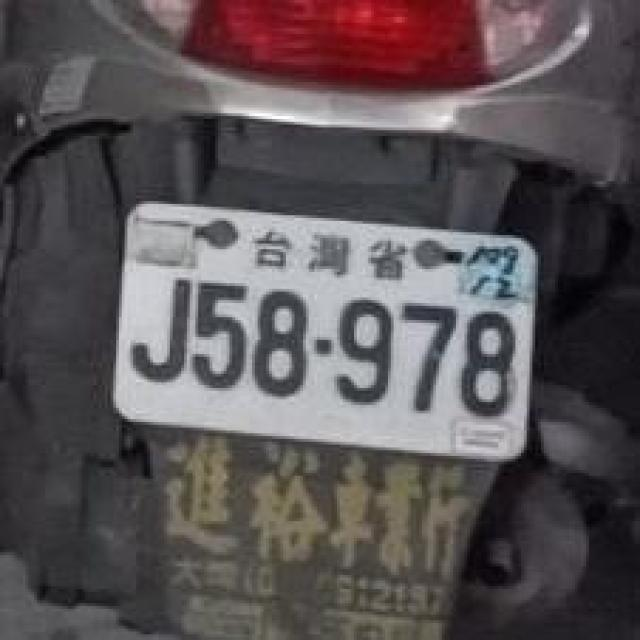W: (91, 178, 555, 490)
